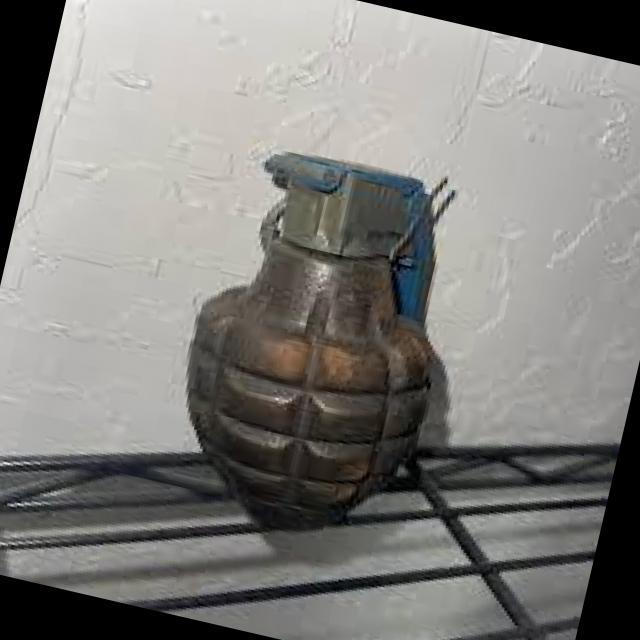grenade: (138, 124, 520, 552)
